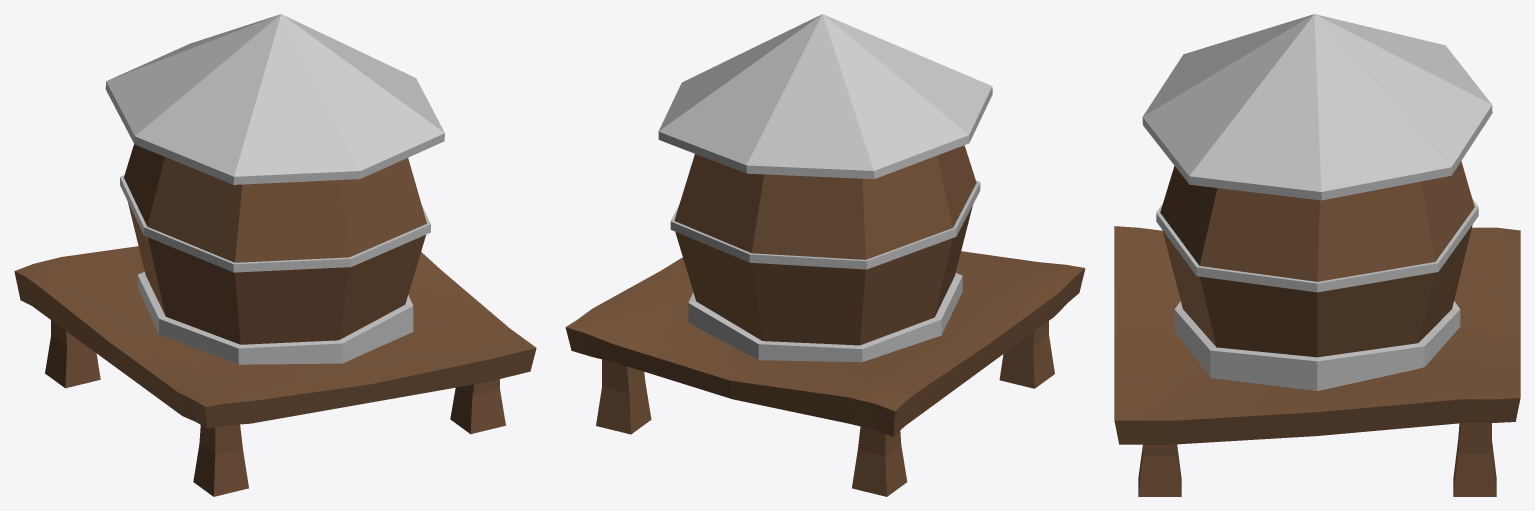
File: bld-watertower.glb
The picture shows the model from 3 angles, left to right: view 1: azimuth 30°, elevation 25°; view 2: azimuth 150°, elevation 25°; view 3: azimuth 270°, elevation 25°; orthographic projection. The views are drawn at different scales.
Parts seen in each view (by area): view 1: Cube-col; view 2: Cube-col; view 3: Cube-col.
Part boxes in pixels (bbox=[...]): Cube-col: bbox=[14, 14, 536, 496]; Cube-col: bbox=[565, 14, 1085, 496]; Cube-col: bbox=[1114, 14, 1520, 496].
Size of the model in its own units: 8.53 by 9.5 by 8.53.
